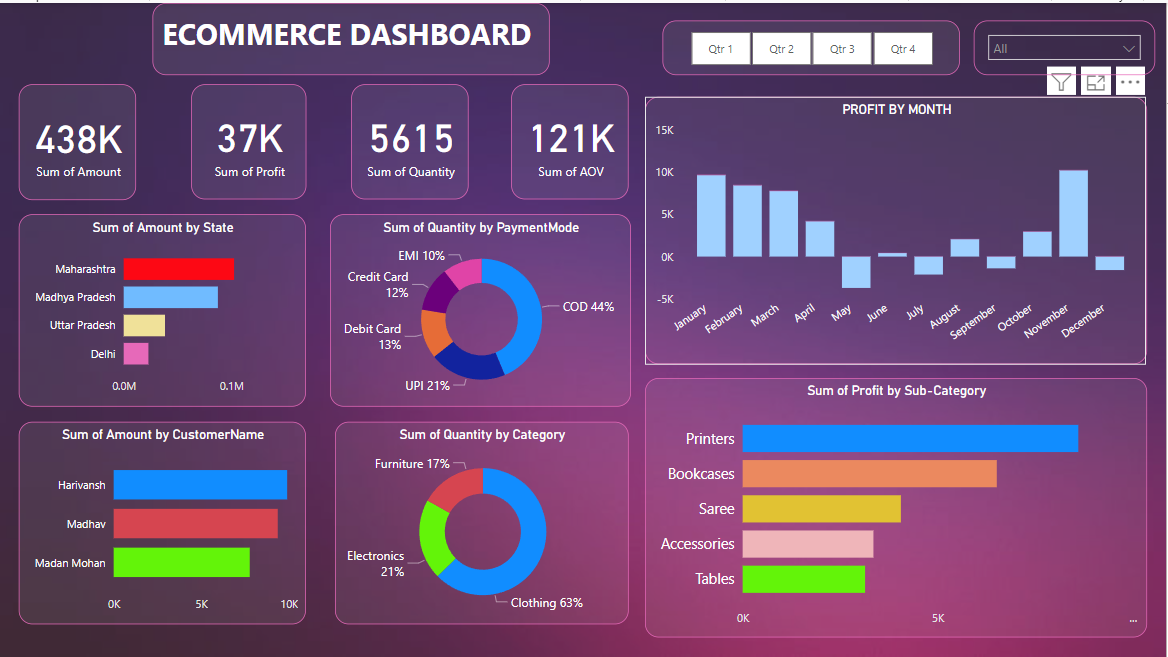

The dashboard page shown, as its layout file describes it:
{"tool":"powerbi","page":{"name":"Page 1","canvas":[1280,720],"ordinal":0},"visuals":[{"type":"textbox","box":[167.3,0,436,79.5],"z":0},{"type":"columnChart","title":"PROFIT BY MONTH","fields":{"Y":["Details.Profit","Orders.Order Date"],"Category":["Orders.Order Date.Variation.Date Hierarchy.Month"]},"box":[707.5,102.8,551.2,293.4],"z":1000},{"type":"barChart","fields":{"Y":["Details.Profit"],"Category":["Details.Sub-Category"]},"box":[707.5,411.3,551.2,285.2],"z":2000},{"type":"donutChart","fields":{"Category":["Details.Category"],"Y":["Details.Quantity"]},"box":[367.4,459.3,322.2,222.1],"z":3000},{"type":"donutChart","fields":{"Category":["Details.PaymentMode"],"Y":["Details.Quantity"]},"box":[362,231.7,330.4,211.1],"z":4000},{"type":"card","fields":{"Values":["Details.Amount"]},"box":[20.6,89.1,128.9,127.5],"z":5000},{"type":"card","fields":{"Values":["Details.Quantity"]},"box":[385.3,89.1,128.9,126.1],"z":6000},{"type":"card","fields":{"Values":["Details.AOV"]},"box":[560.8,89.1,128.9,126.1],"z":7000},{"type":"card","fields":{"Values":["Details.Profit"]},"box":[209.8,89.1,126.1,126.1],"z":8000},{"type":"barChart","fields":{"Category":["Orders.State"],"Y":["Details.Amount"]},"box":[20.6,231.7,315.3,211.1],"z":9000},{"type":"barChart","fields":{"Category":["Orders.CustomerName"],"Y":["Details.Amount"]},"box":[20.6,459.3,315.3,222.1],"z":10000},{"type":"slicer","fields":{"Values":["Orders.State"]},"box":[1069.4,19.2,198.8,60.3],"z":11000},{"type":"slicer","fields":{"Values":["Orders.Order Date.Variation.Date Hierarchy.Quarter"]},"box":[726.7,19.2,326.3,60.3],"z":12000}]}

Visuals, with their boxes in screenshot pixels (x1, y1, x2, y2), scaled from the page's 1280x720 canvas onto the 1168x657 screenshot:
textbox: bbox(153, 0, 551, 73)
"PROFIT BY MONTH" columnChart: bbox(646, 94, 1149, 362)
barChart - Details.Profit x Details.Sub-Category: bbox(646, 375, 1149, 636)
donutChart - Details.Category x Details.Quantity: bbox(335, 419, 629, 622)
donutChart - Details.PaymentMode x Details.Quantity: bbox(330, 211, 632, 404)
card - Details.Amount: bbox(19, 81, 136, 198)
card - Details.Quantity: bbox(352, 81, 469, 196)
card - Details.AOV: bbox(512, 81, 629, 196)
card - Details.Profit: bbox(191, 81, 307, 196)
barChart - Orders.State x Details.Amount: bbox(19, 211, 307, 404)
barChart - Orders.CustomerName x Details.Amount: bbox(19, 419, 307, 622)
slicer - Orders.State: bbox(976, 18, 1157, 73)
slicer - Orders.Order Date.Variation.Date Hierarchy.Quarter: bbox(663, 18, 961, 73)
